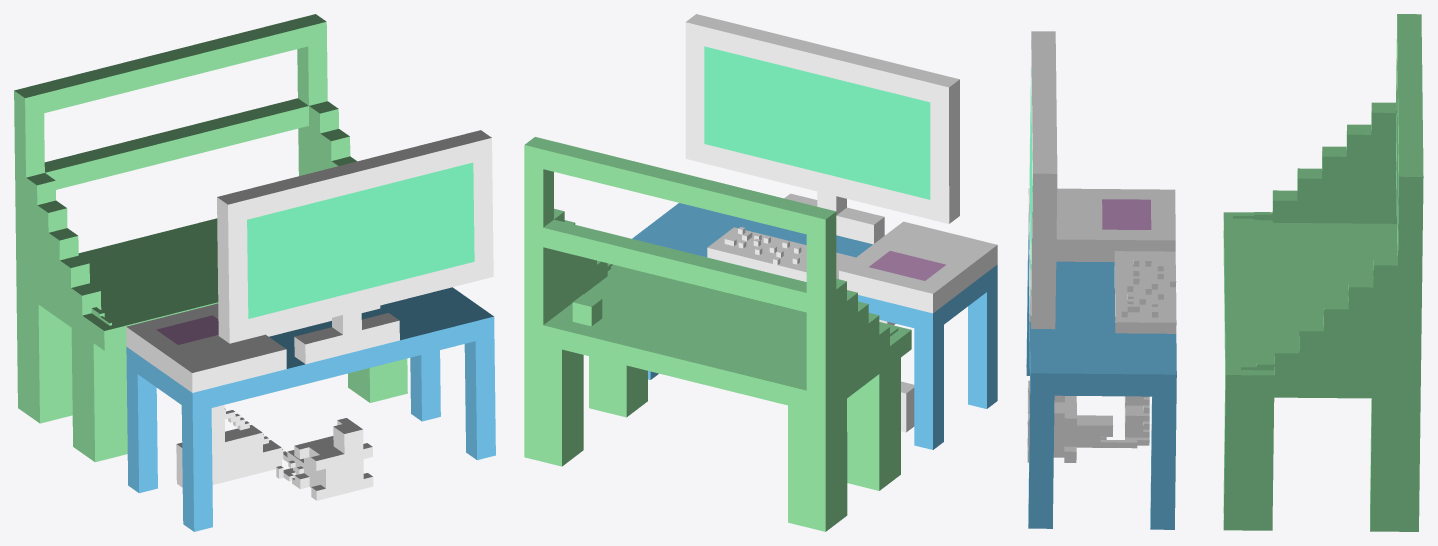
3 views of the same model, side by side, from view 1: azimuth 30°, elevation 25°; view 2: azimuth 150°, elevation 25°; view 3: azimuth 270°, elevation 25° (orthographic). The views are drawn at different scales.
Visible parts, largest first — view 1: Object_2, Object_3, Object_4, Object_6, Object_5; view 2: Object_2, Object_3, Object_6, Object_4, Object_5; view 3: Object_2, Object_3, Object_4, Object_5, Object_6.
Boxes of the visible parts, left/top/right/bottom form: Object_2: left=14, top=14, right=407, bottom=462; Object_3: left=126, top=130, right=493, bottom=500; Object_4: left=126, top=287, right=495, bottom=531; Object_6: left=247, top=162, right=474, bottom=318; Object_5: left=156, top=315, right=218, bottom=344; Object_2: left=524, top=137, right=911, bottom=531; Object_3: left=685, top=14, right=997, bottom=432; Object_6: left=704, top=46, right=930, bottom=199; Object_4: left=632, top=203, right=997, bottom=449; Object_5: left=869, top=251, right=945, bottom=280; Object_2: left=1223, top=14, right=1423, bottom=531; Object_3: left=1027, top=31, right=1176, bottom=462; Object_4: left=1026, top=213, right=1176, bottom=529; Object_5: left=1102, top=199, right=1151, bottom=229; Object_6: left=1029, top=68, right=1032, bottom=295.
Bounding box in the file's own units: 64.72 × 65.15 × 65.06.
